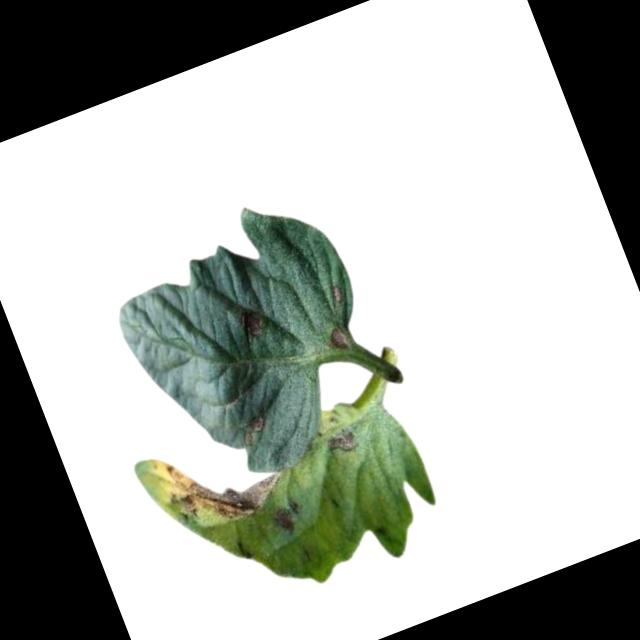Early_blight: (159, 430, 286, 541), (268, 500, 307, 539), (236, 304, 270, 342), (328, 425, 359, 460), (238, 416, 272, 445), (325, 324, 354, 356), (327, 282, 350, 308)
